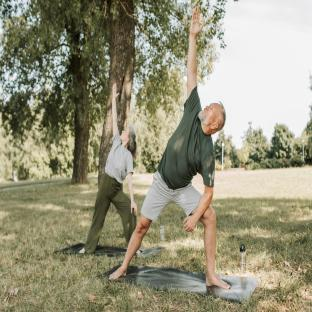Human: (109, 7, 230, 289), (80, 83, 137, 253)
